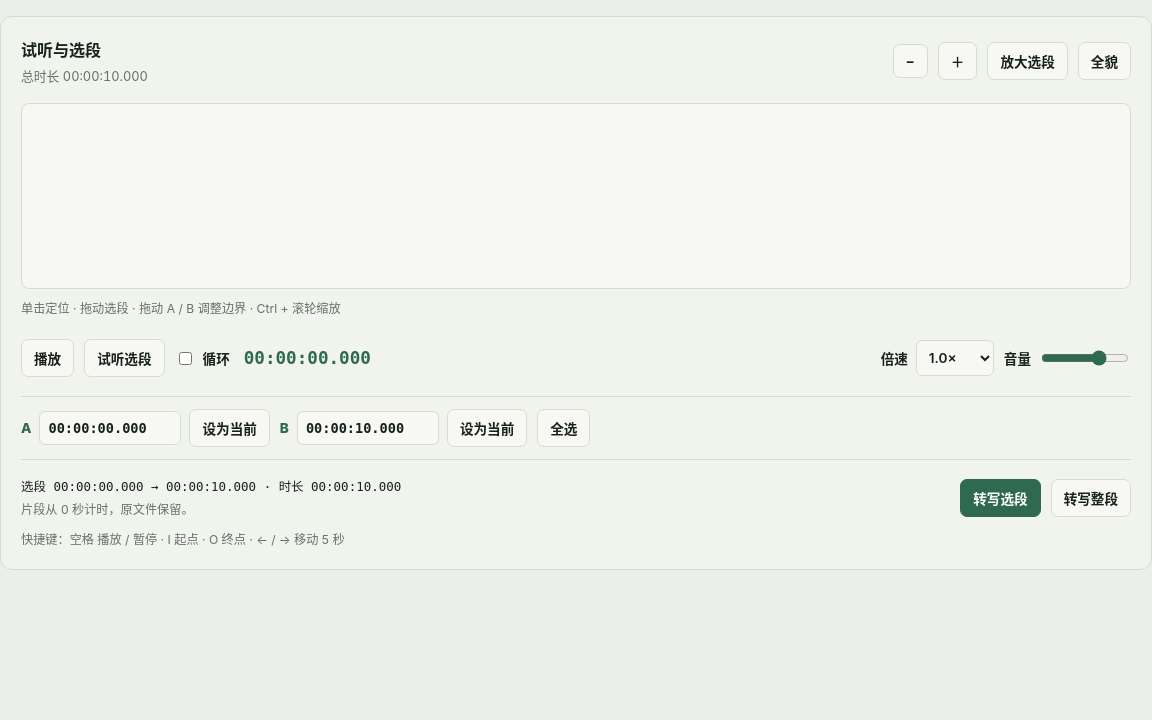
Test: keeps editing drafts and applies minute timecodes on Enter
The width and height of the screenshot is (1152, 720).
Replace the text in the field named "片段开始时间" with "1." at (110, 428), box [40,411,182,445]
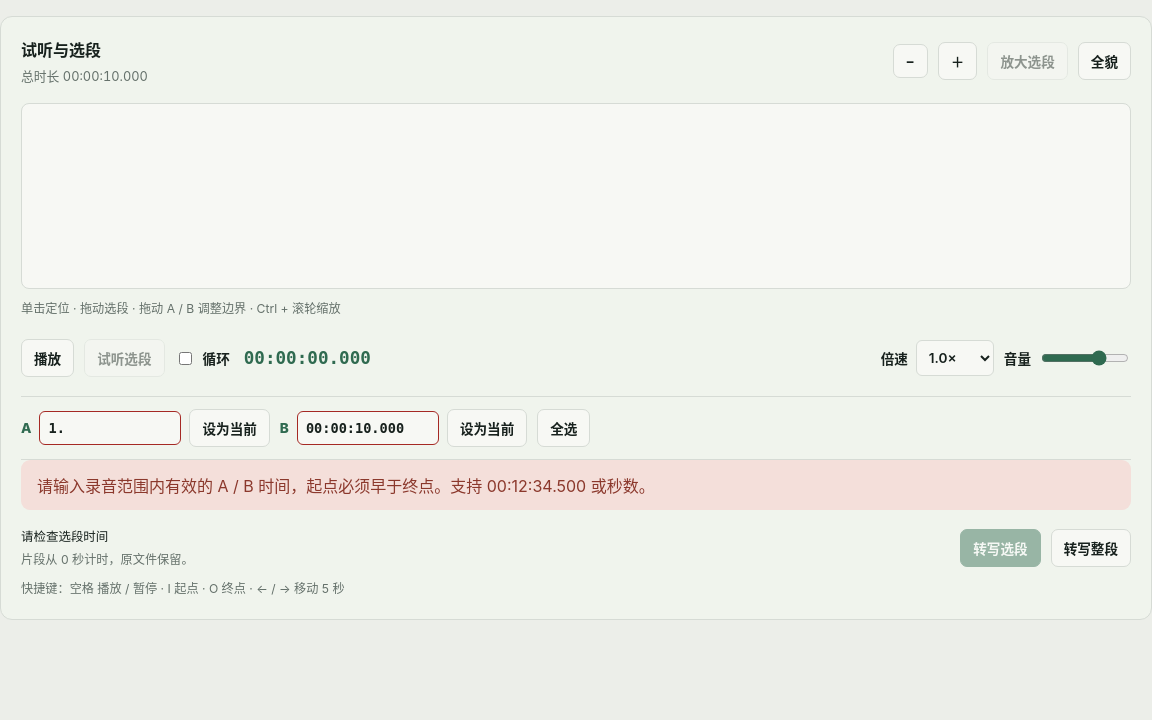
Expected: the button "试听选段" is disabled, [84,339,165,377]
Replace the text in the field named "片段开始时间" with "0:01.234" at (110, 428), box [40,411,182,445]
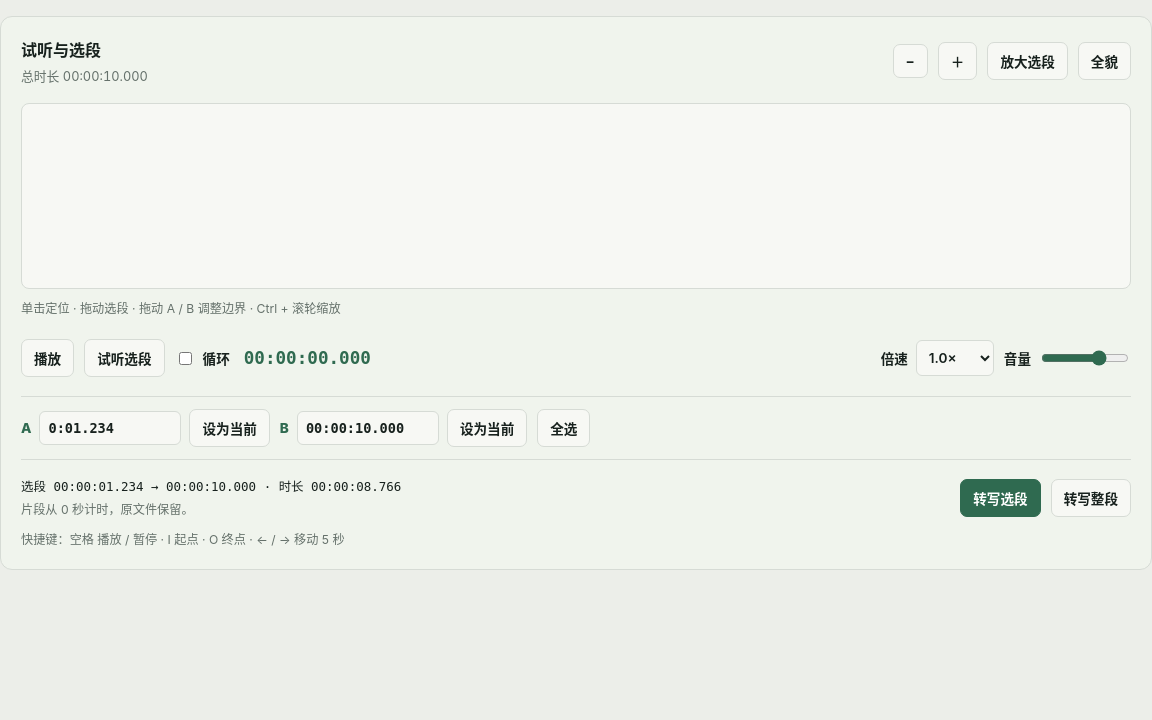
Press Enter in the field named "片段开始时间", box [40,411,182,445]
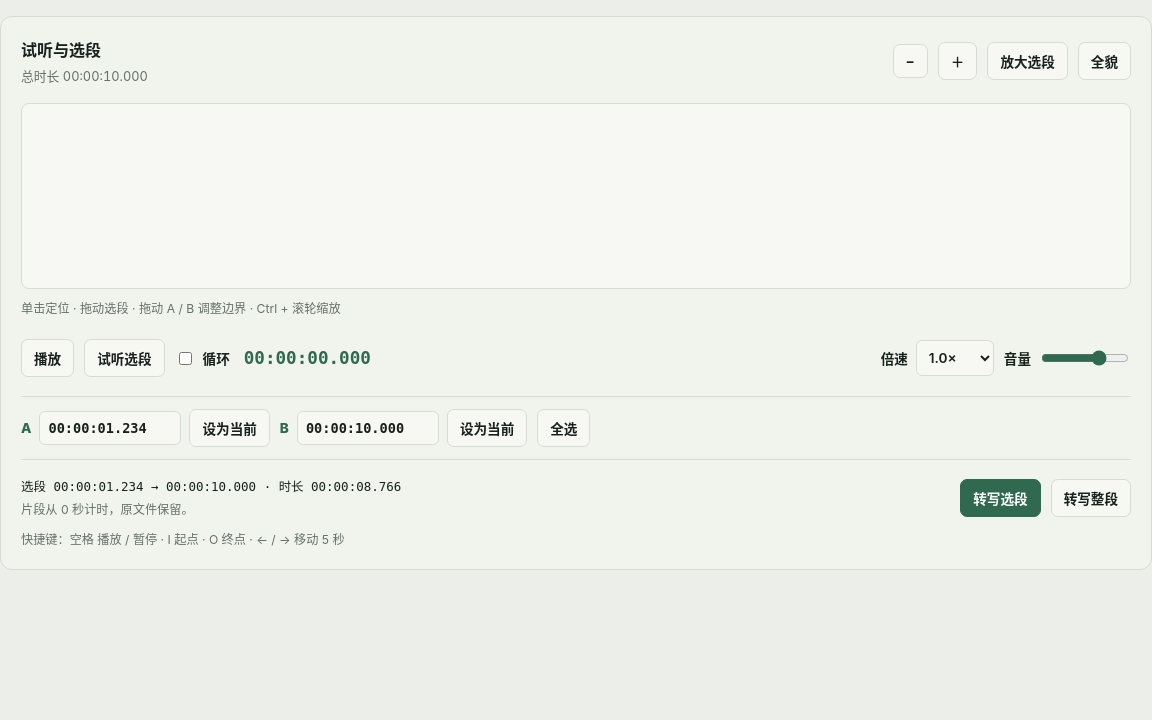
Expected: the text "选段 00:00:01.234 → 00:00:10.000 · 时长 00:00:08.766" is shown, [21,476,401,497]
Expected: the field named "片段开始时间" holds "00:00:01.234", [40,411,182,445]
